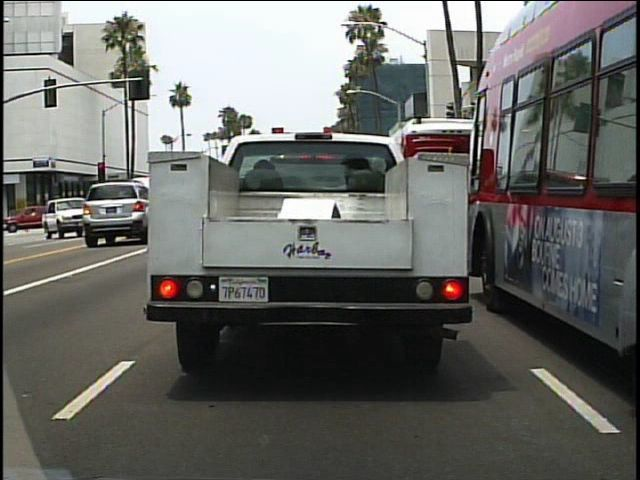person: (18, 200, 38, 235)
